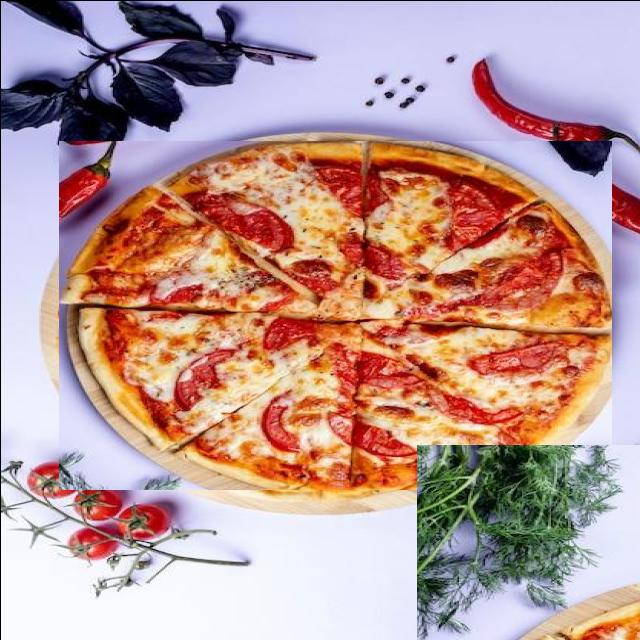basil: (0, 1, 314, 176), (416, 444, 639, 640)
pizza: (58, 140, 611, 489)
